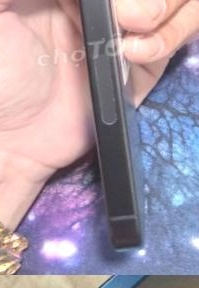scratch: (82, 21, 107, 49)
